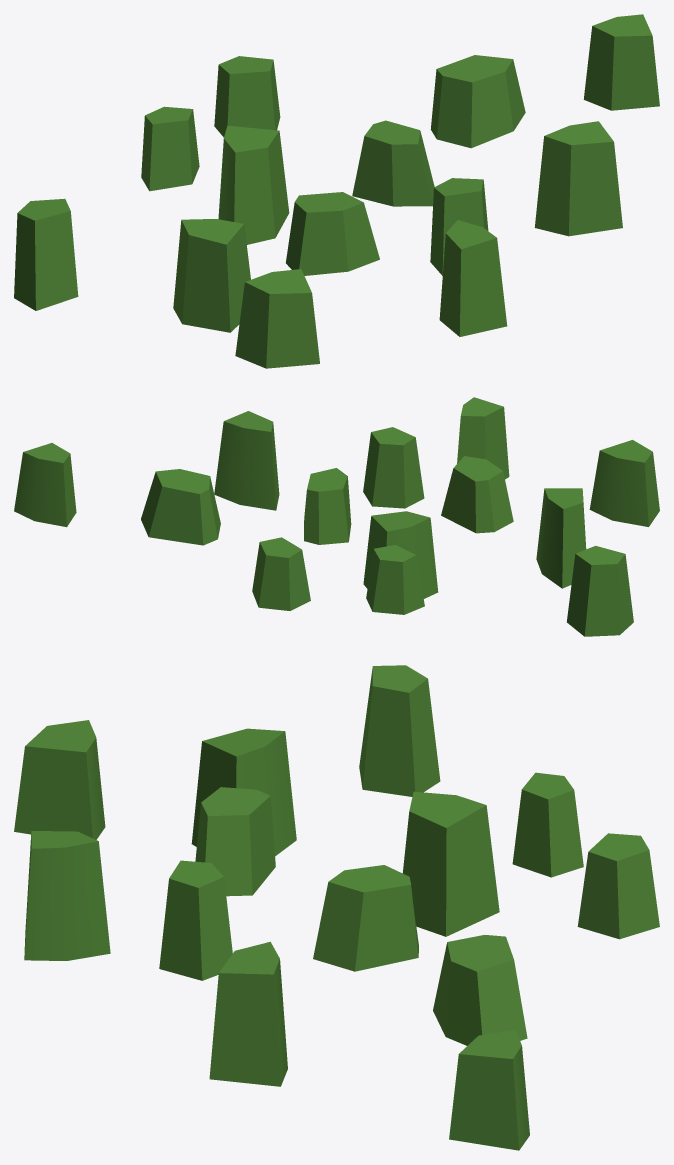
The model's file is grass_layer_crumbs_mini_set_F.fbx.
3 renders of one model, top to bottom at view 1: azimuth 30°, elevation 25°; view 2: azimuth 150°, elevation 25°; view 3: azimuth 270°, elevation 25°, orthographic. The views are drawn at different scales.
Visible parts, largest first — view 1: grass_layer_crumb_spec_A4, grass_layer_crumb_spec_A10, grass_layer_crumb_spec_F6, grass_layer_crumb_spec_A12, grass_layer_crumb_spec_A5, grass_layer_crumb_spec_A16, grass_layer_crumb_spec_F7, grass_layer_crumb_spec_C5, grass_layer_crumb_spec_A11, grass_layer_crumb_spec_F8, grass_layer_crumb_spec_C15, grass_layer_crumb_spec_C16 (+1 smaller); view 2: grass_layer_crumb_spec_A4, grass_layer_crumb_spec_C5, grass_layer_crumb_spec_F6, grass_layer_crumb_spec_A12, grass_layer_crumb_spec_A11, grass_layer_crumb_spec_F7, grass_layer_crumb_spec_C13, grass_layer_crumb_spec_A10, grass_layer_crumb_spec_C15, grass_layer_crumb_spec_C16, grass_layer_crumb_spec_A5, grass_layer_crumb_spec_F8 (+1 smaller); view 3: grass_layer_crumb_spec_A5, grass_layer_crumb_spec_A16, grass_layer_crumb_spec_A4, grass_layer_crumb_spec_F8, grass_layer_crumb_spec_C5, grass_layer_crumb_spec_A12, grass_layer_crumb_spec_F6, grass_layer_crumb_spec_A11, grass_layer_crumb_spec_C13, grass_layer_crumb_spec_A10, grass_layer_crumb_spec_F7, grass_layer_crumb_spec_C15 (+1 smaller).
Boxes of the visible parts, x1,y1,x2,y2 form: grass_layer_crumb_spec_A4: (534,121,622,236); grass_layer_crumb_spec_A10: (173,219,250,332); grass_layer_crumb_spec_F6: (430,55,525,148); grass_layer_crumb_spec_A12: (235,269,319,368); grass_layer_crumb_spec_A5: (218,125,289,244); grass_layer_crumb_spec_A16: (439,220,507,336); grass_layer_crumb_spec_F7: (286,192,379,275); grass_layer_crumb_spec_C5: (14,198,78,310); grass_layer_crumb_spec_A11: (583,14,659,110); grass_layer_crumb_spec_F8: (352,120,434,206); grass_layer_crumb_spec_C15: (214,56,280,137); grass_layer_crumb_spec_C16: (141,106,199,191); grass_layer_crumb_spec_A4: (214,411,279,510); grass_layer_crumb_spec_C5: (567,545,633,636); grass_layer_crumb_spec_F6: (141,469,220,545); grass_layer_crumb_spec_A12: (589,440,659,526); grass_layer_crumb_spec_A11: (14,443,76,527); grass_layer_crumb_spec_F7: (441,456,513,533); grass_layer_crumb_spec_C13: (363,427,424,508); grass_layer_crumb_spec_A10: (536,488,586,588); grass_layer_crumb_spec_C15: (252,537,310,610); grass_layer_crumb_spec_C16: (366,545,424,614); grass_layer_crumb_spec_A5: (363,511,438,598); grass_layer_crumb_spec_F8: (304,468,351,544); grass_layer_crumb_spec_A5: (402,791,499,936); grass_layer_crumb_spec_A16: (24,831,110,960); grass_layer_crumb_spec_A4: (209,941,287,1086); grass_layer_crumb_spec_F8: (313,865,418,971); grass_layer_crumb_spec_C5: (359,665,440,796); grass_layer_crumb_spec_A12: (14,720,105,839); grass_layer_crumb_spec_F6: (433,935,527,1045); grass_layer_crumb_spec_A11: (449,1030,529,1150); grass_layer_crumb_spec_C13: (159,860,232,980); grass_layer_crumb_spec_A10: (191,728,296,856); grass_layer_crumb_spec_F7: (195,787,275,896); grass_layer_crumb_spec_C15: (577,833,659,939).
Size of the model in its own units: 121 by 16.75 by 81.8.
